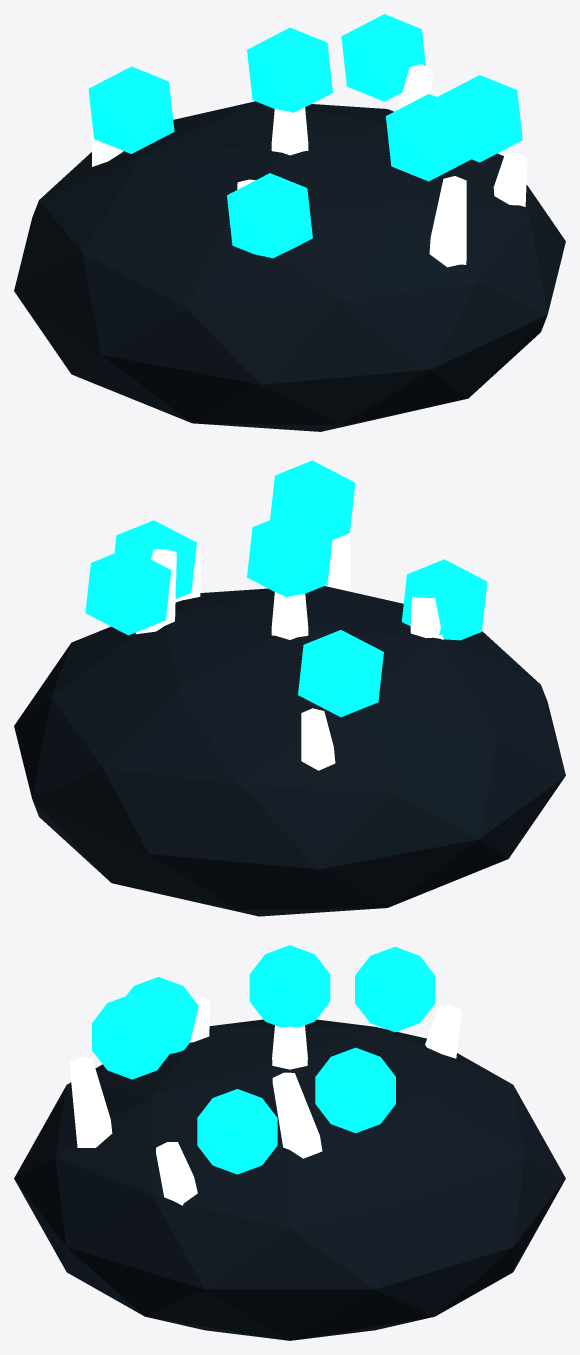
The model's file is alien_spore_bush.glb.
3 views of the same model, one above another, from view 1: azimuth 30°, elevation 25°; view 2: azimuth 150°, elevation 25°; view 3: azimuth 270°, elevation 25° (orthographic). The views are drawn at different scales.
Parts seen in each view (by area): view 1: alien_spore_bush; view 2: alien_spore_bush; view 3: alien_spore_bush.
Boxes of the visible parts, left/top/right/bottom form: alien_spore_bush: left=14, top=14, right=565, bottom=431; alien_spore_bush: left=14, top=460, right=565, bottom=916; alien_spore_bush: left=14, top=945, right=565, bottom=1340.
Size of the model in its own units: 0.7989 by 0.5936 by 0.84.
